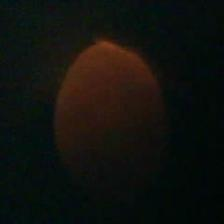fertile: (50, 38, 165, 190)
